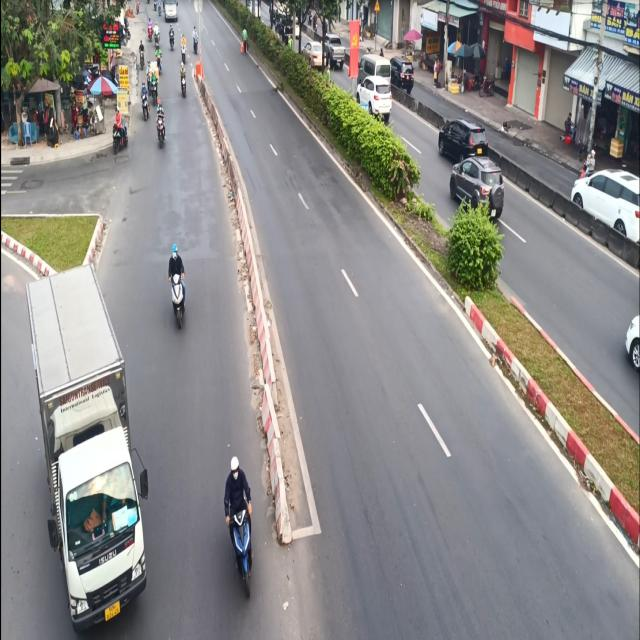motor: (222, 448, 261, 598), (163, 241, 187, 332)
truck: (21, 273, 154, 621)
